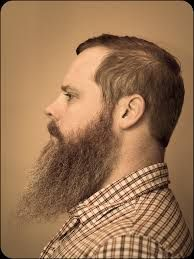no-mask: (37, 27, 184, 181)
